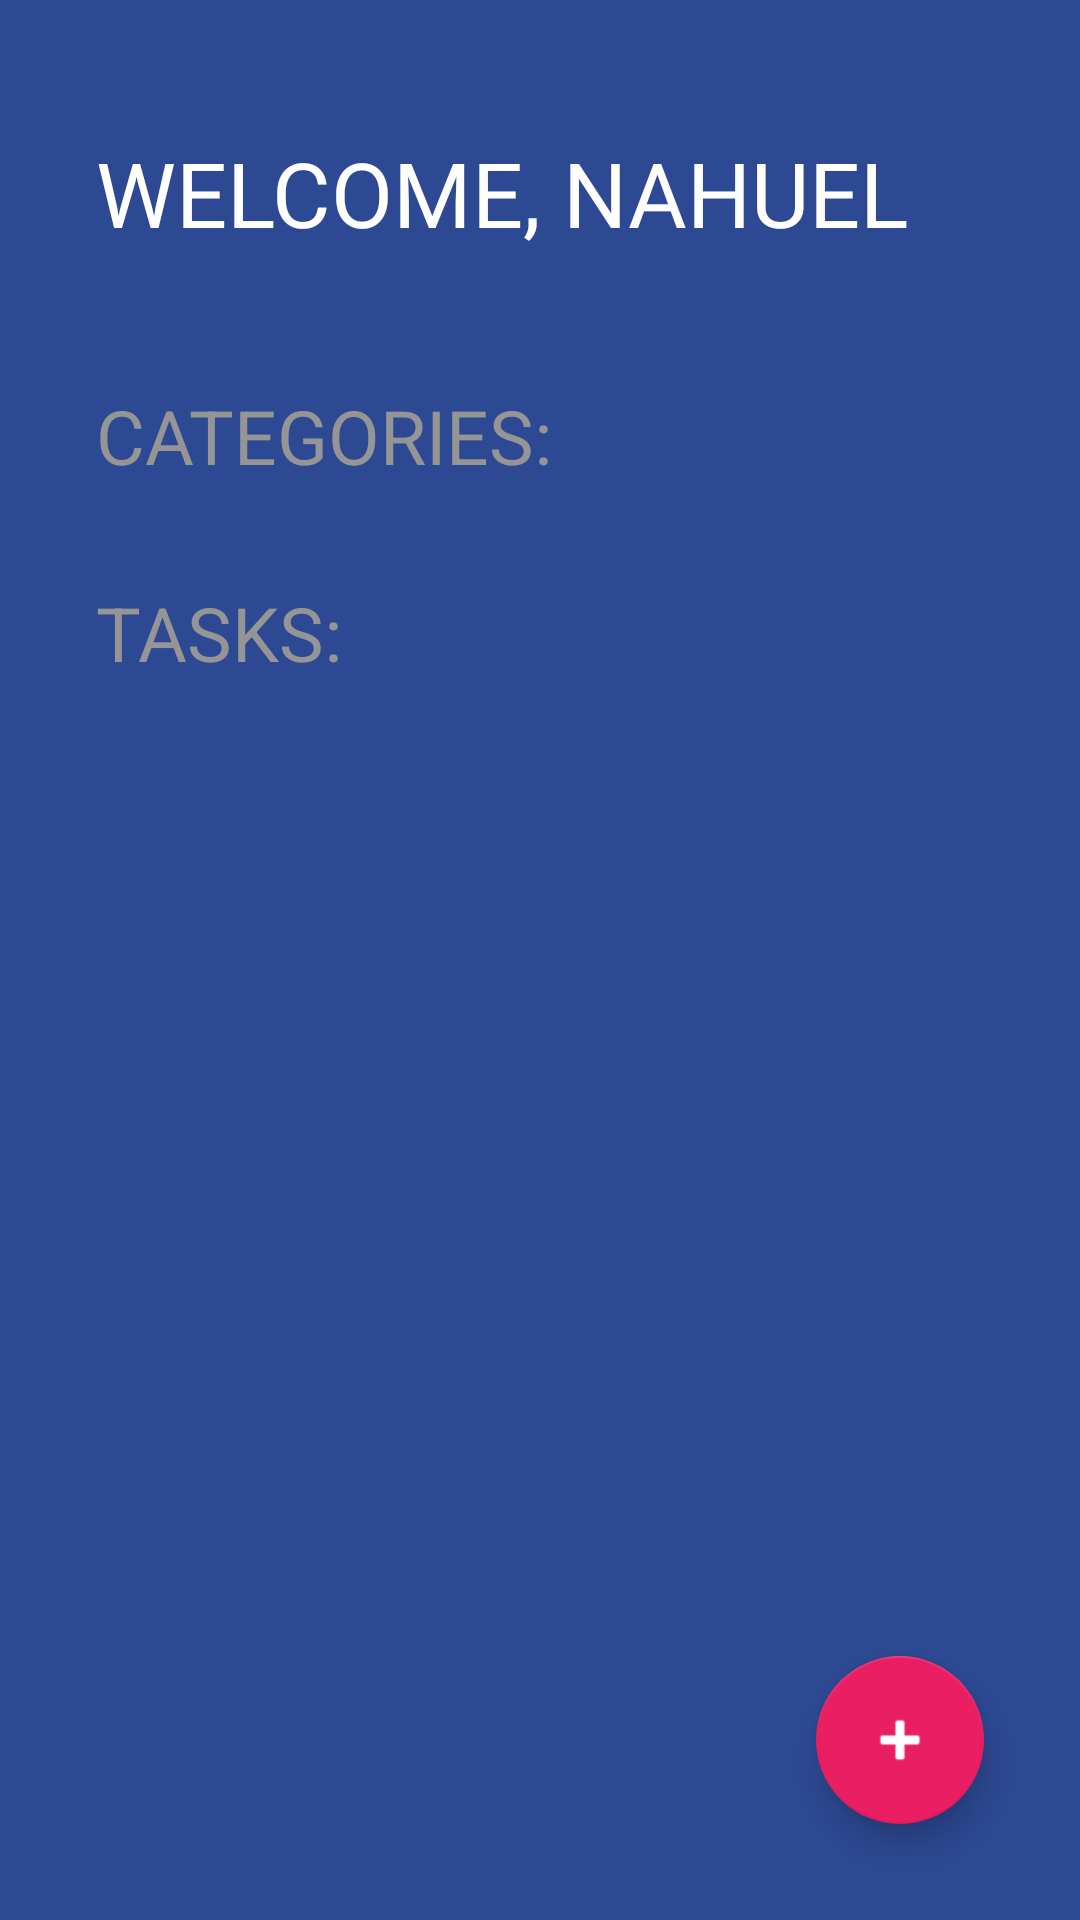

Where icons sit on this 1080 × 1920 app screen, as (x1, y1, x2, y2):
add: (816, 1656, 984, 1824)
